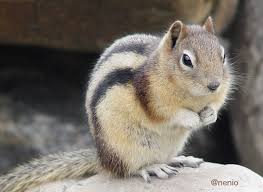Ardilla: (80, 12, 248, 166)
